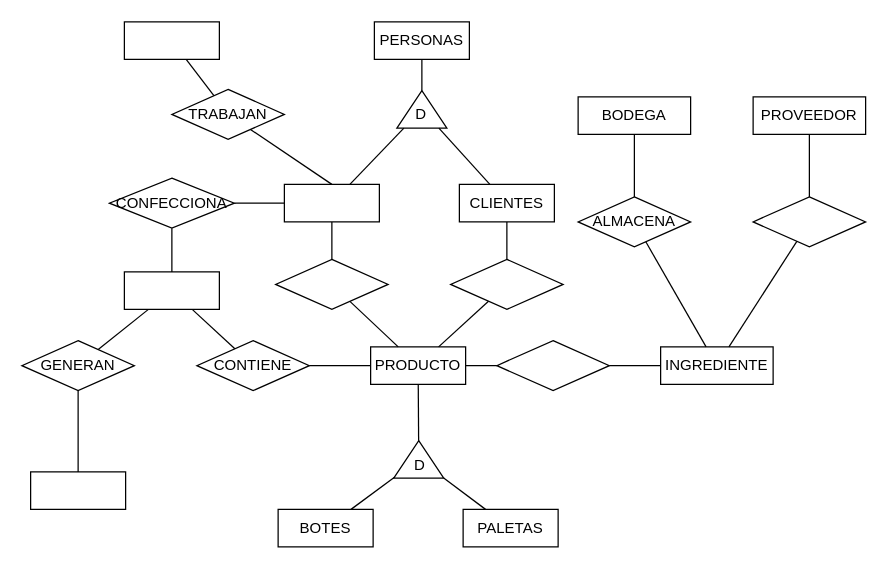
Image size: 888x569. Some labels were removed from this diagram. The box of each missing label's shape, as (x1, y1, x2, y2) in pixels:
BOLETA: (29, 471, 126, 509)
COMPRAN: (449, 258, 563, 309)
EMPLEADOS: (283, 183, 379, 222)
PEDIDO: (123, 271, 219, 309)
PRODUCEN: (274, 258, 388, 309)
PROVEE: (752, 196, 866, 247)
SUCURSAL: (123, 21, 219, 59)
TIENE: (496, 339, 609, 391)
